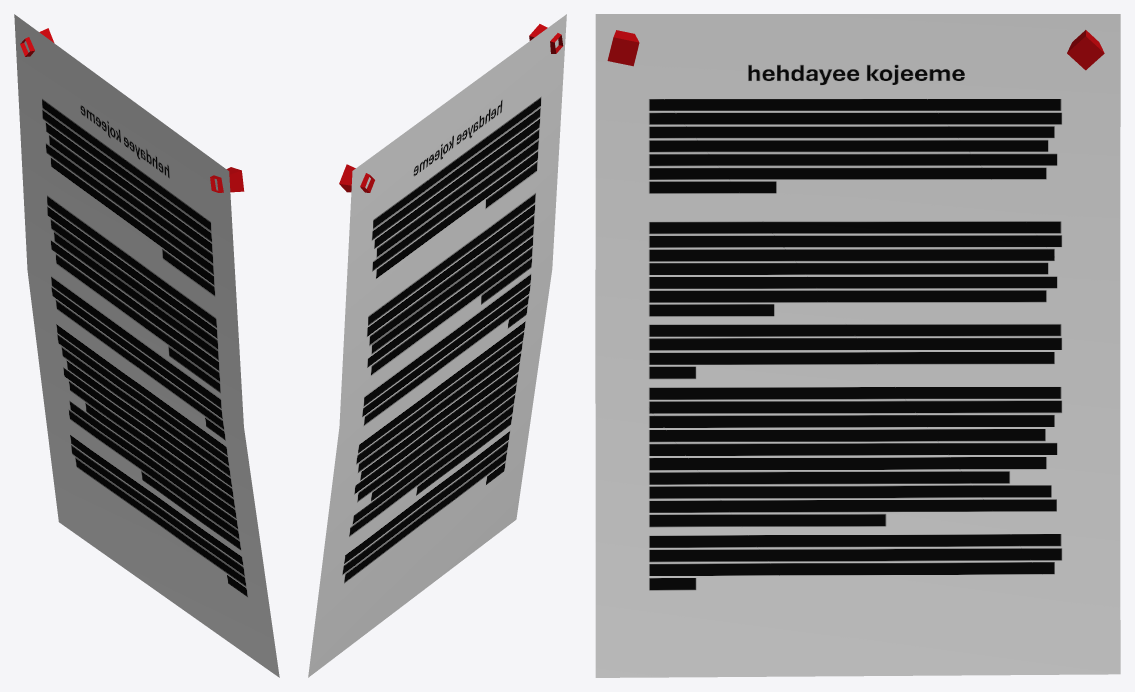
The model's file is Wall-Document_1.fbx.
The picture shows the model from 3 angles, left to right: view 1: azimuth 30°, elevation 25°; view 2: azimuth 150°, elevation 25°; view 3: azimuth 270°, elevation 25°; orthographic projection. The views are drawn at different scales.
Visible parts, largest first — view 1: Cube.002; view 2: Cube.002; view 3: Cube.002.
Boxes of the visible parts, bbox=[...] form: Cube.002: bbox=[14, 14, 279, 677]; Cube.002: bbox=[308, 14, 566, 677]; Cube.002: bbox=[595, 14, 1120, 677].
Size of the model in its own units: 85.93 by 789 by 592.
